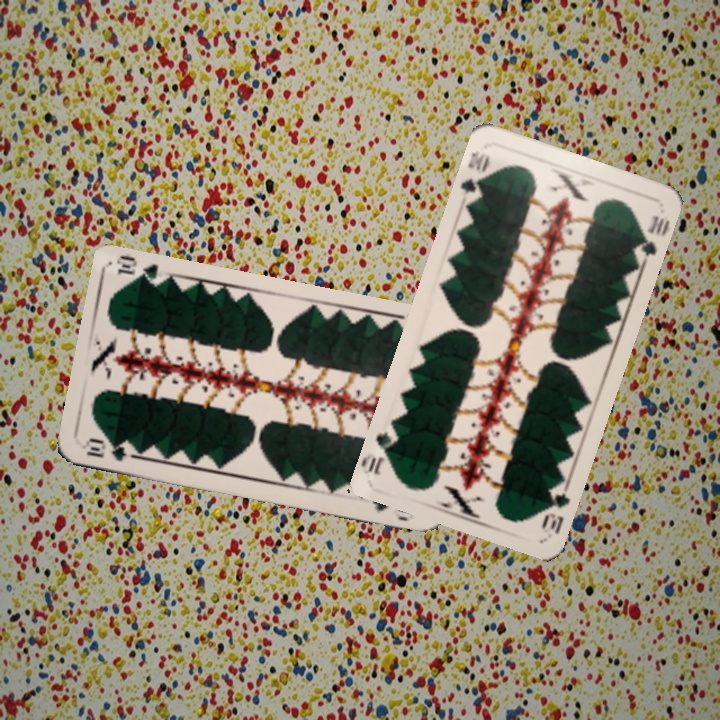G10: (537, 478, 573, 537), (457, 146, 492, 197), (78, 435, 130, 464)
